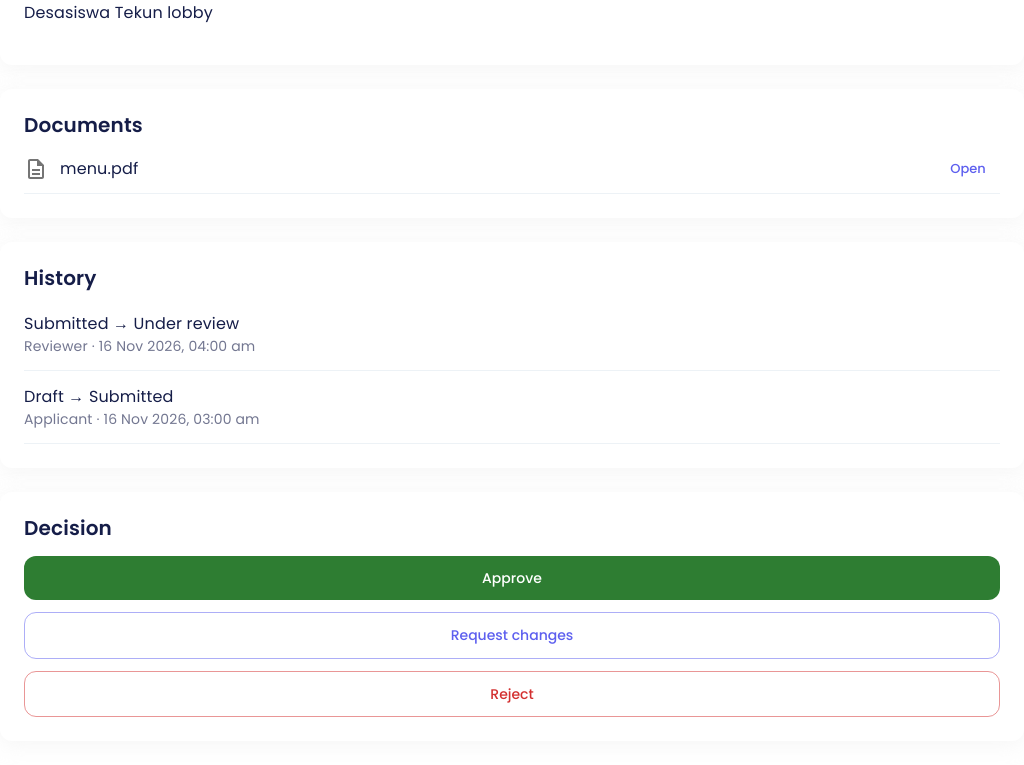
Scenario: ApplicationDetailPage › requesting changes needs a note, which is sent to the database
The width and height of the screenshot is (1024, 765).
(page scrolled)
Click the button "Request changes".
click(512, 636)  # box x1=24 y1=612 x2=1000 y2=659
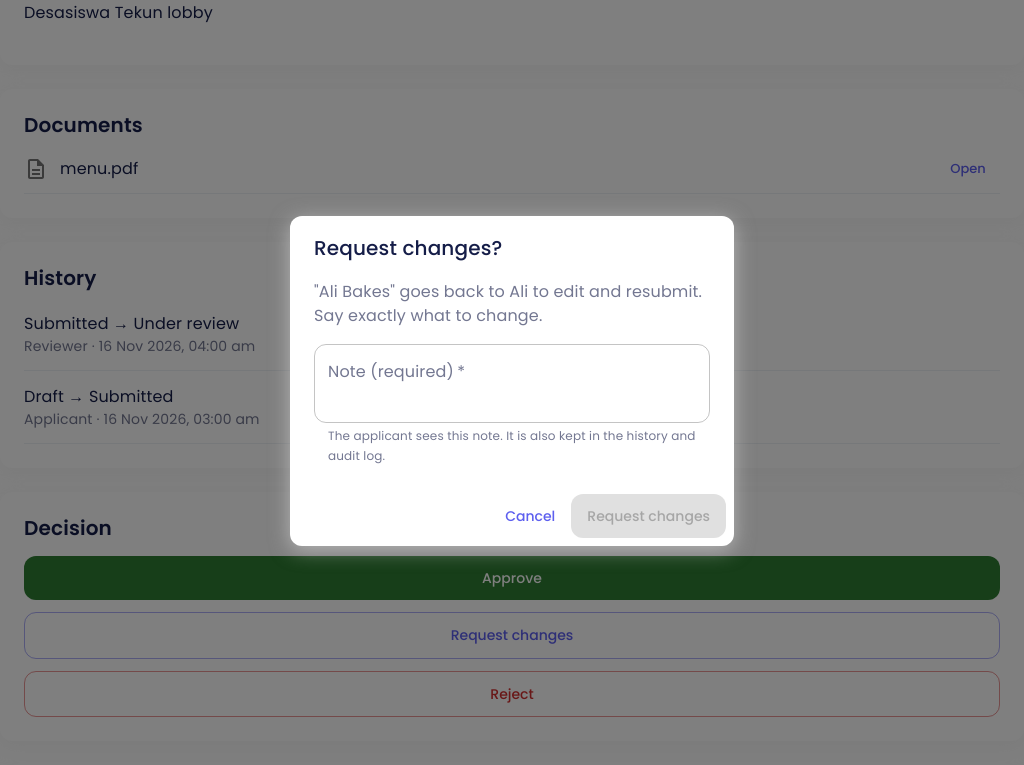
Now the button "Request changes" is disabled, box x1=571 y1=494 x2=726 y2=538
Type "Add your price list." into the text box labelled "Note (required) *".
click(512, 383); type("Add your price list.")  # box x1=328 y1=360 x2=696 y2=406
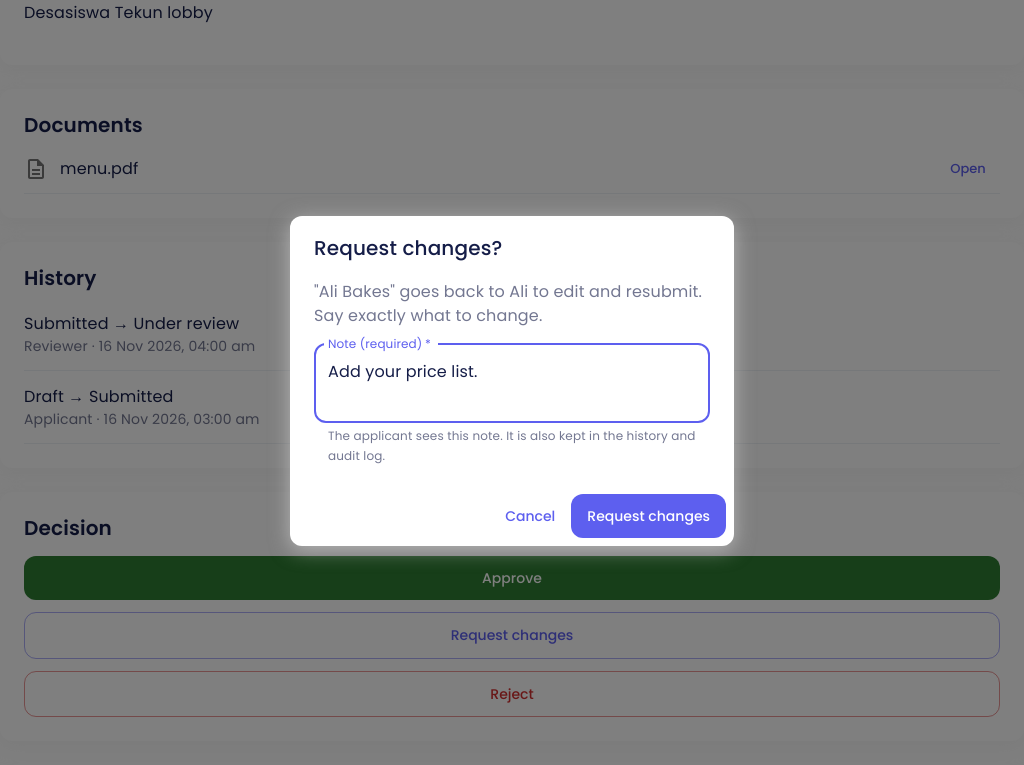
Now the button "Request changes" is enabled
Click the button "Request changes".
click(649, 516)  # box x1=571 y1=494 x2=726 y2=538
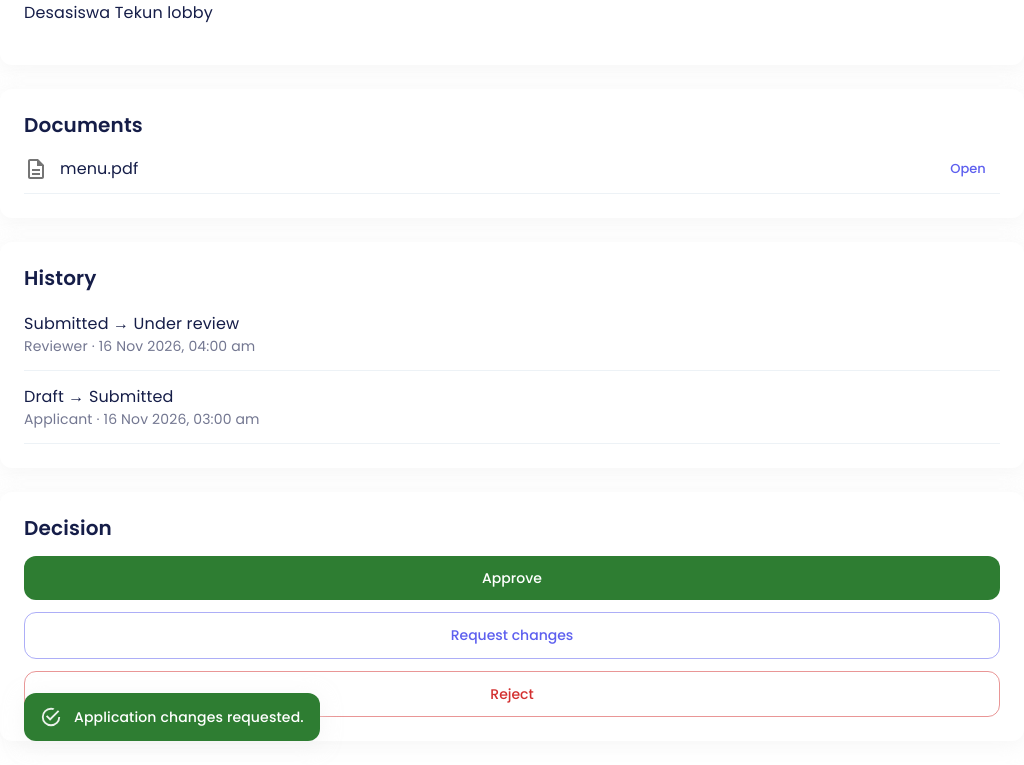
Now the text "Application changes requested." is shown, box x1=74 y1=707 x2=304 y2=727
